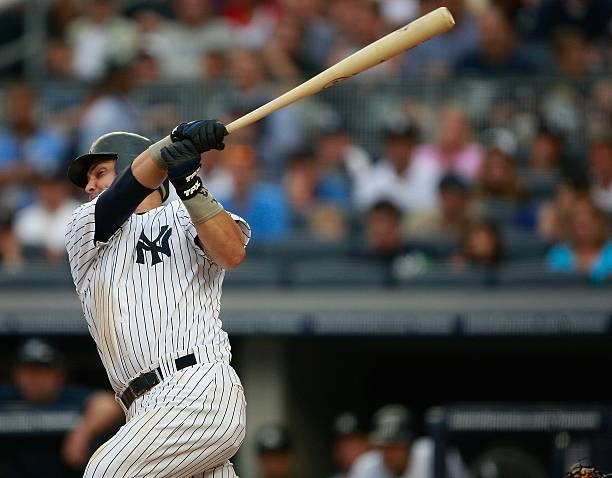bita: (217, 4, 450, 135)
